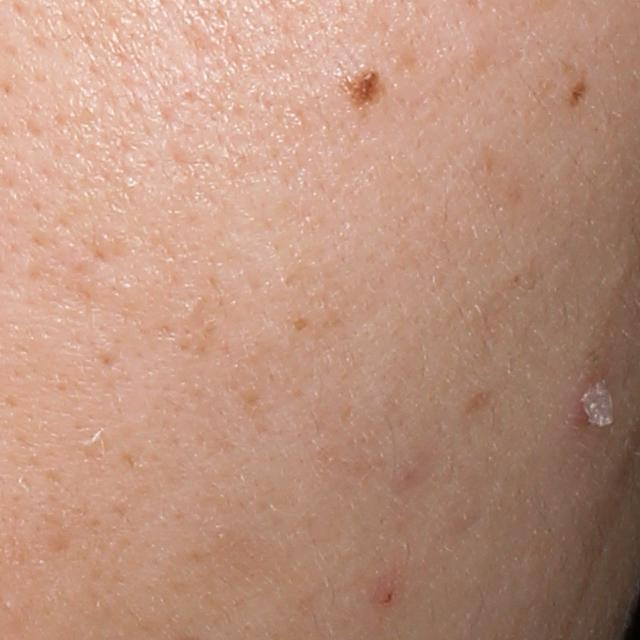nevus: (337, 65, 389, 115), (564, 73, 589, 109)
other: (580, 376, 618, 436)
papule: (371, 574, 403, 611)
